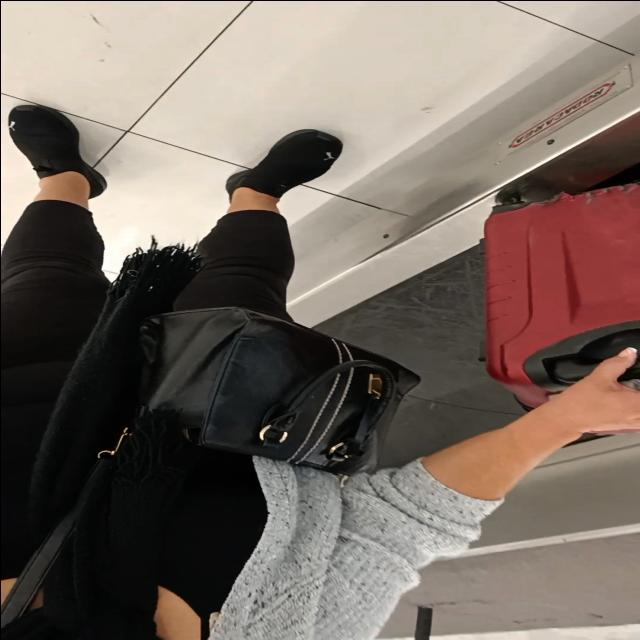Damage-bag: (533, 183, 640, 206)
